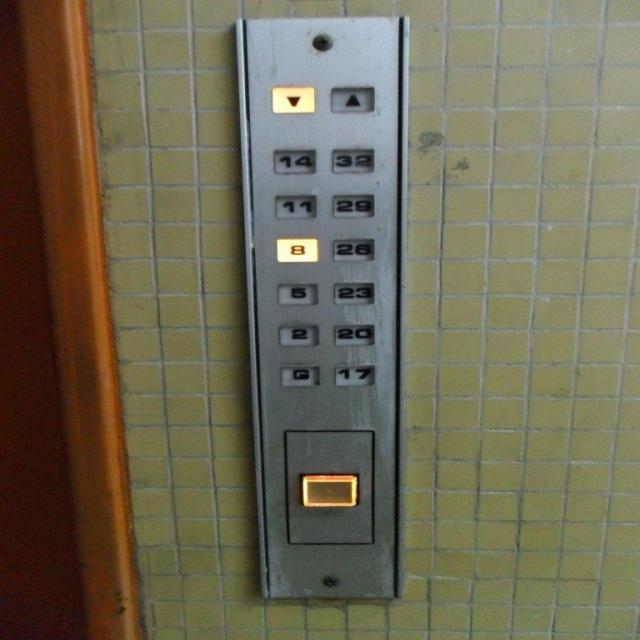11: (274, 192, 318, 219)
14: (272, 146, 318, 174)
17: (332, 362, 376, 386)
2: (277, 322, 321, 347)
20: (331, 322, 376, 346)
23: (332, 280, 376, 305)
26: (331, 236, 375, 262)
29: (330, 192, 375, 219)
32: (329, 146, 375, 173)
5: (275, 280, 320, 306)
8: (274, 237, 318, 261)
G: (278, 363, 322, 387)
down: (270, 85, 315, 114)
empty: (298, 471, 360, 508)
up: (329, 84, 375, 112)
